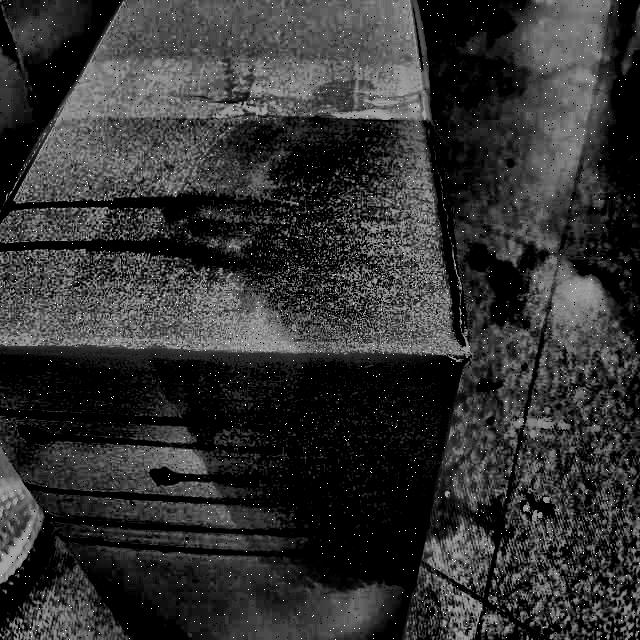box: (1, 0, 475, 639)
wet: (180, 123, 444, 595)
